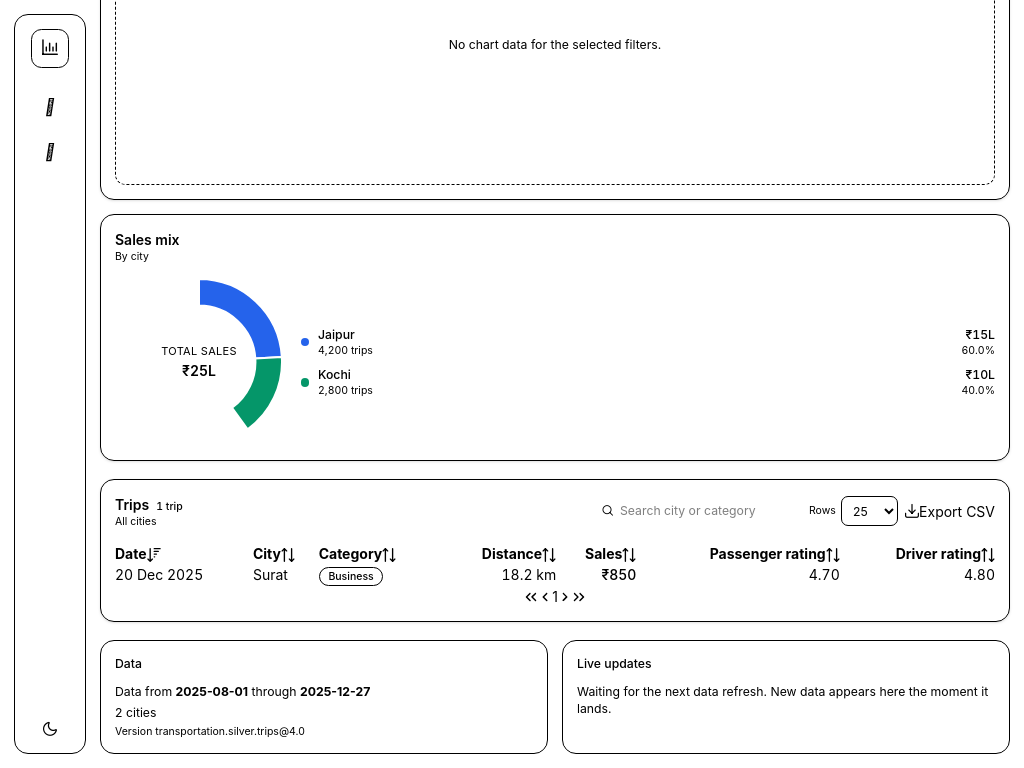
Test: dashboard shell and page › shows an error toast when CSV export fails
(page scrolled)
expect the text "Business" is shown: met, box [319,567,383,586]
Click the button "Export CSV". click: coordinates (950, 511)
box: [905,500,995,522]
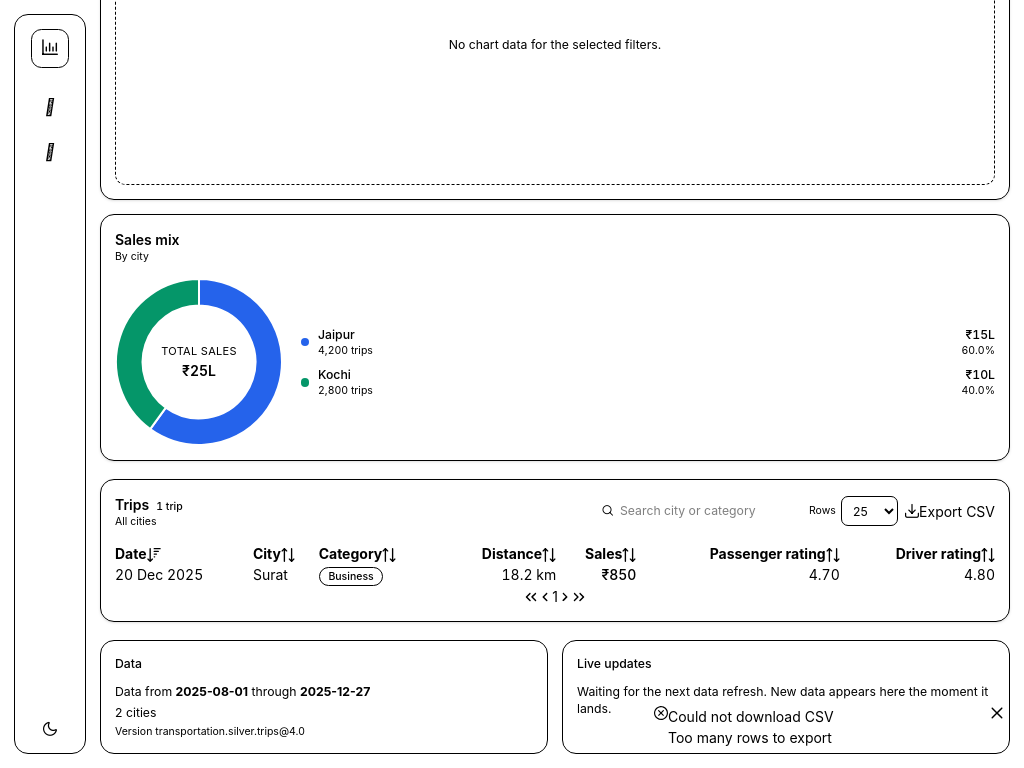
expect the text "Too many rows to export" is shown: met, box [668,729,832,746]
